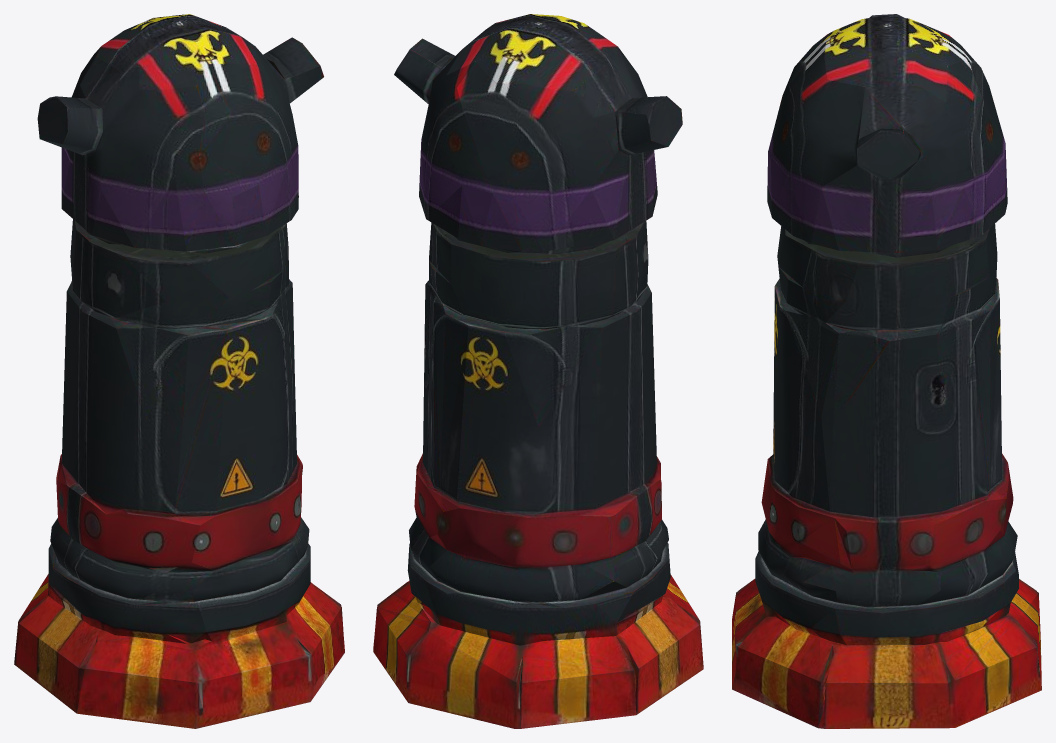
Rendered from BS_Enemy_Elite_CapsulePawn_final.glb.
The picture shows the model from 3 angles, left to right: view 1: azimuth 30°, elevation 25°; view 2: azimuth 150°, elevation 25°; view 3: azimuth 270°, elevation 25°; orthographic projection.
Bounding box in the file's own units: 0.8399 × 1.9 × 0.8327.
1 material, 1 textured.
